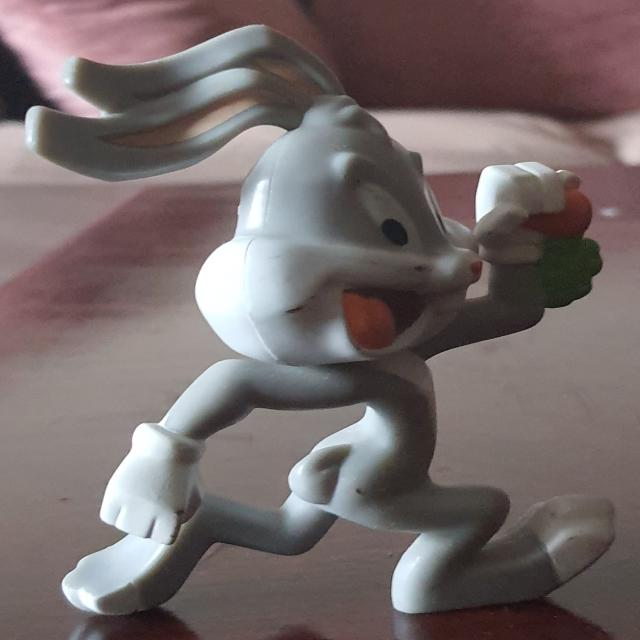Rabbit: (25, 22, 617, 618)
